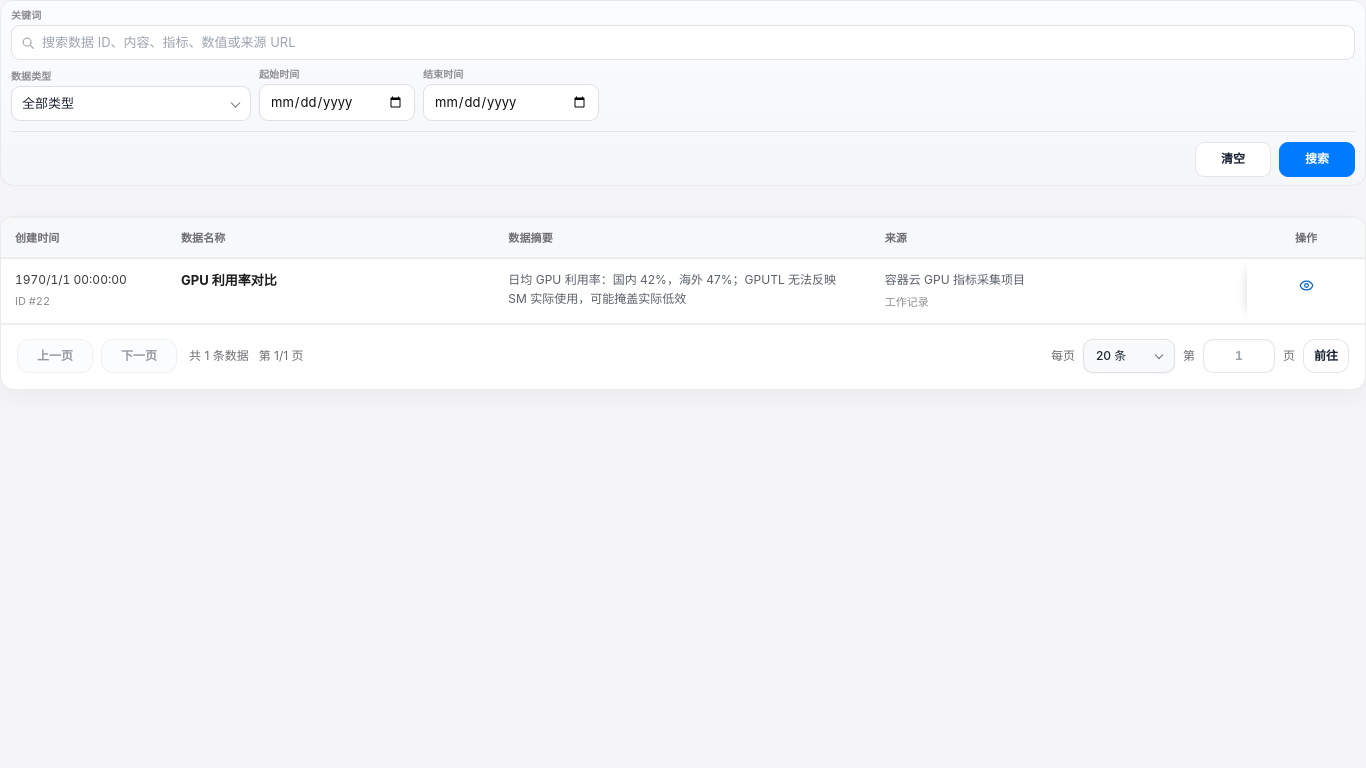
it: BakeDataTab › 以完整表格展示数据，并按需打开详情抽屉
Expected: the table named "数据表格" is shown, [1,218,1365,323]
Expected: the column heading "创建时间" is shown, [1,218,167,259]
Step 1. Click the button named "查看数据：GPU 利用率对比" → (1306, 285), box [1292,271,1320,299]
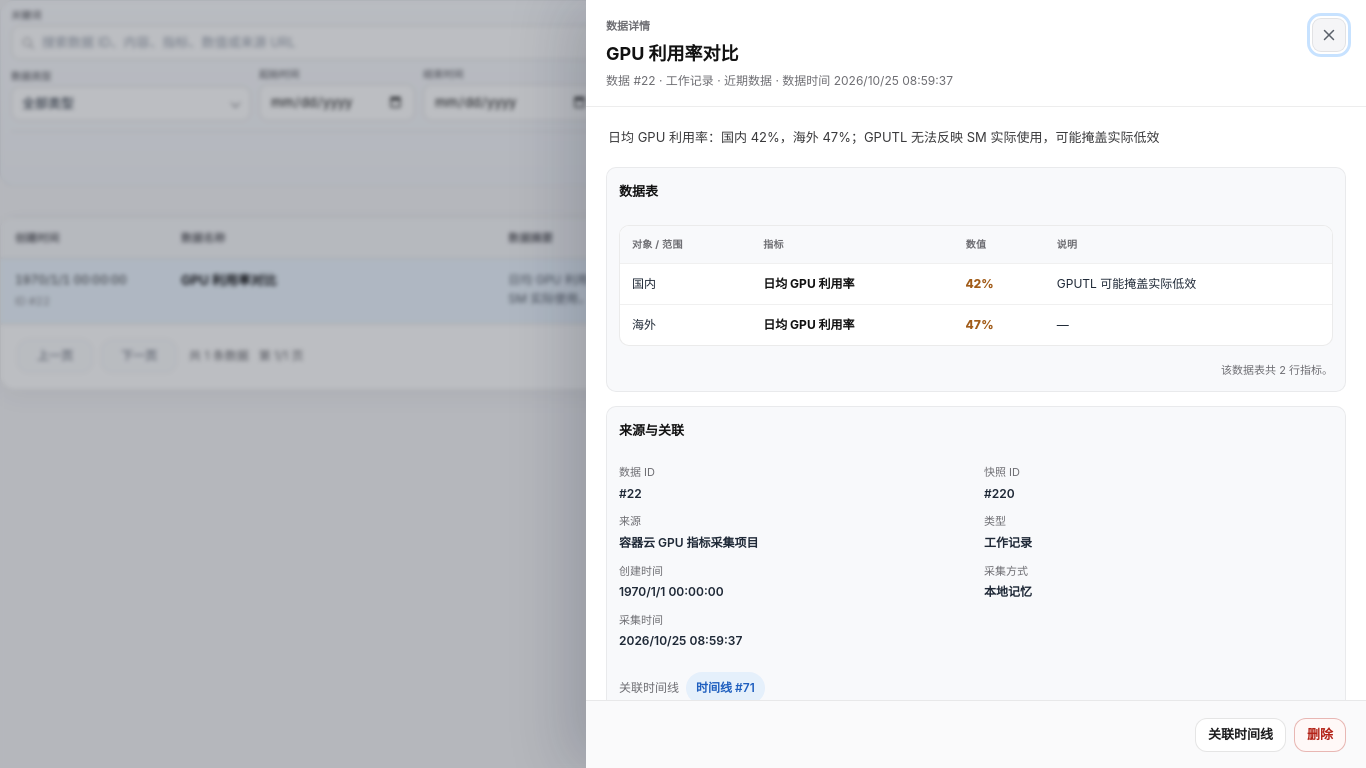
Result: the text "数据 #22 · 工作记录 · 近期数据 · 数据时间 2026/10/25 08:59:37" is shown at [606,72,953,90]
Result: the text "日均 GPU 利用率：国内 42%，海外 47%；GPUTL 无法反映 SM 实际使用，可能掩盖实际低效" is shown at [608,129,1159,145]
Result: the column heading "对象 / 范围" is shown at [620,226,751,263]
Step 2. Press Escape
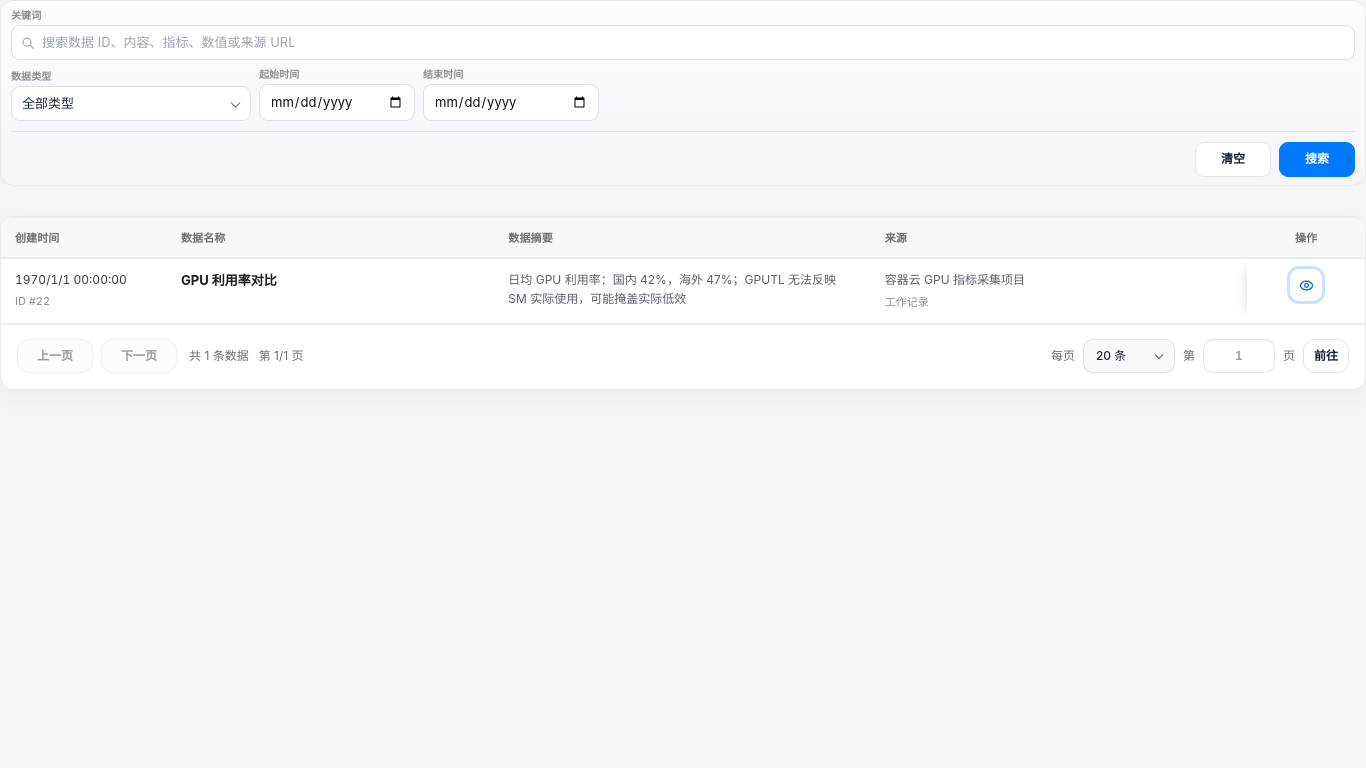
Result: the dialog is gone
